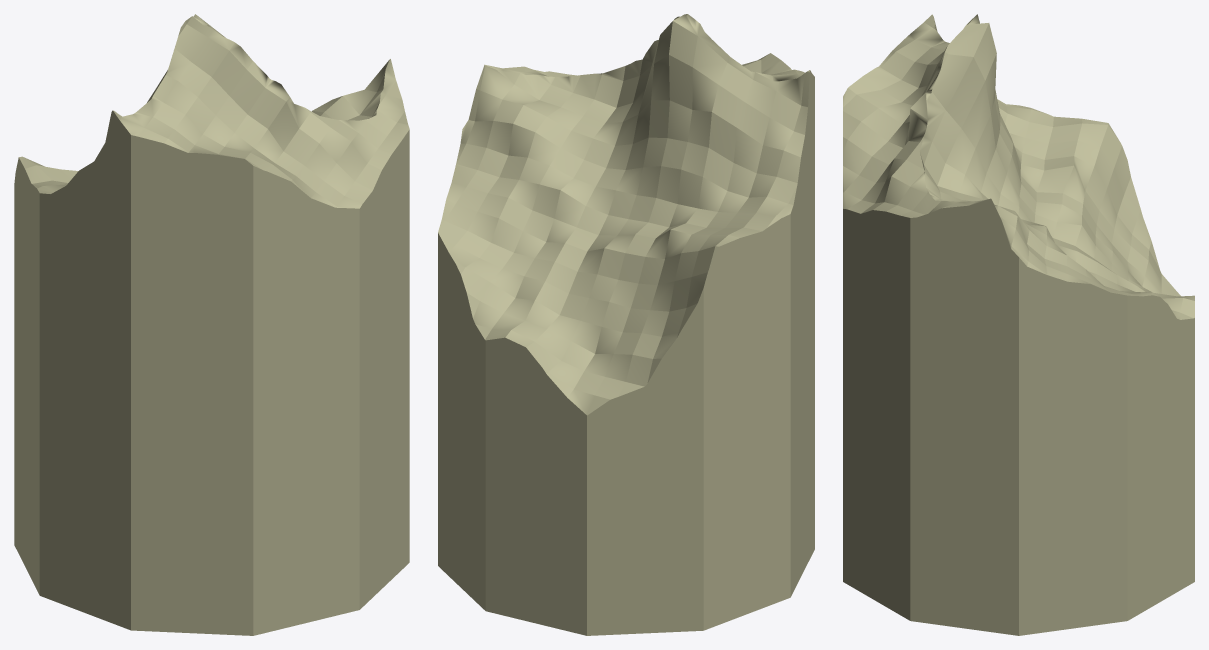
Rendered from M_Column_D24_1.fbx.
3 renders of one model, left to right at view 1: azimuth 30°, elevation 25°; view 2: azimuth 150°, elevation 25°; view 3: azimuth 270°, elevation 25°, orthographic. The views are drawn at different scales.
Parts seen in each view (by area): view 1: M_Column_D24_2; view 2: M_Column_D24_2; view 3: M_Column_D24_2.
Part boxes in pixels (x1=…): M_Column_D24_2: x1=14, y1=14, x2=409, y2=635; M_Column_D24_2: x1=438, y1=14, x2=814, y2=635; M_Column_D24_2: x1=843, y1=14, x2=1194, y2=635.
Bounding box in the file's own units: 1.6 × 2.51 × 1.52.
